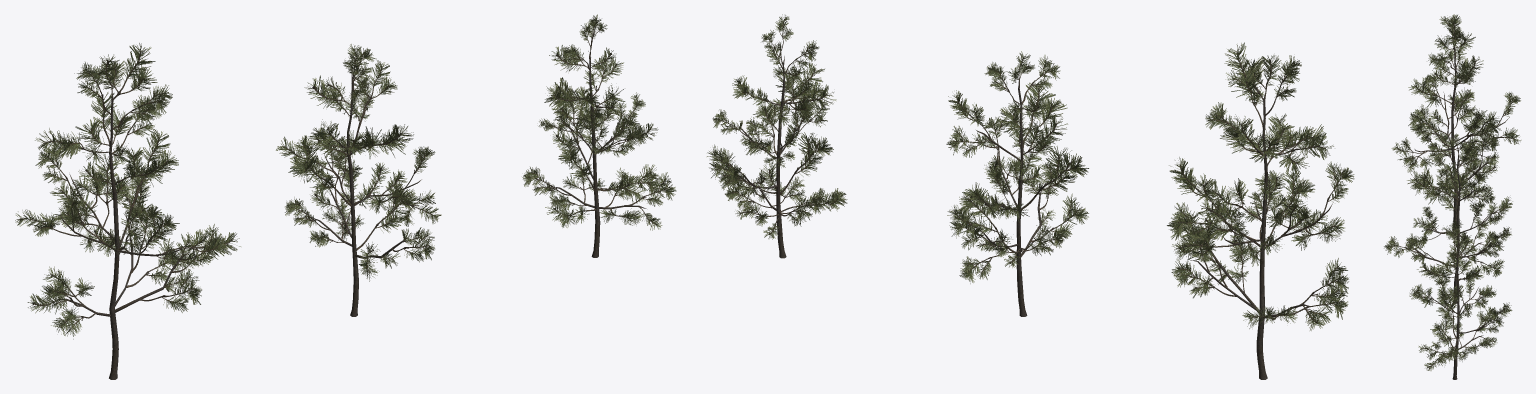
File: pine-sapling-small.glb
3 views of the same model, side by side, from view 1: azimuth 30°, elevation 25°; view 2: azimuth 150°, elevation 25°; view 3: azimuth 270°, elevation 25° (orthographic). The views are drawn at different scales.
Parts seen in each view (by area): view 1: pine_sapling_small_a, pine_sapling_small_b, pine_sapling_small_c; view 2: pine_sapling_small_a, pine_sapling_small_b, pine_sapling_small_c; view 3: pine_sapling_small_a, pine_sapling_small_b, pine_sapling_small_c.
Part boxes in pixels (x1=…): pine_sapling_small_a: x1=15, y1=43, x2=240, y2=379; pine_sapling_small_b: x1=276, y1=44, x2=441, y2=316; pine_sapling_small_c: x1=522, y1=14, x2=676, y2=257; pine_sapling_small_a: x1=1167, y1=42, x2=1354, y2=379; pine_sapling_small_b: x1=946, y1=51, x2=1088, y2=316; pine_sapling_small_c: x1=707, y1=14, x2=847, y2=258; pine_sapling_small_a: x1=1391, y1=14, x2=1521, y2=229; pine_sapling_small_b: x1=1384, y1=133, x2=1512, y2=304; pine_sapling_small_c: x1=1409, y1=222, x2=1512, y2=379.
Size of the model in its own units: 2.64 by 1.3 by 0.7703.
Materials: 2 (2 with a texture image).
